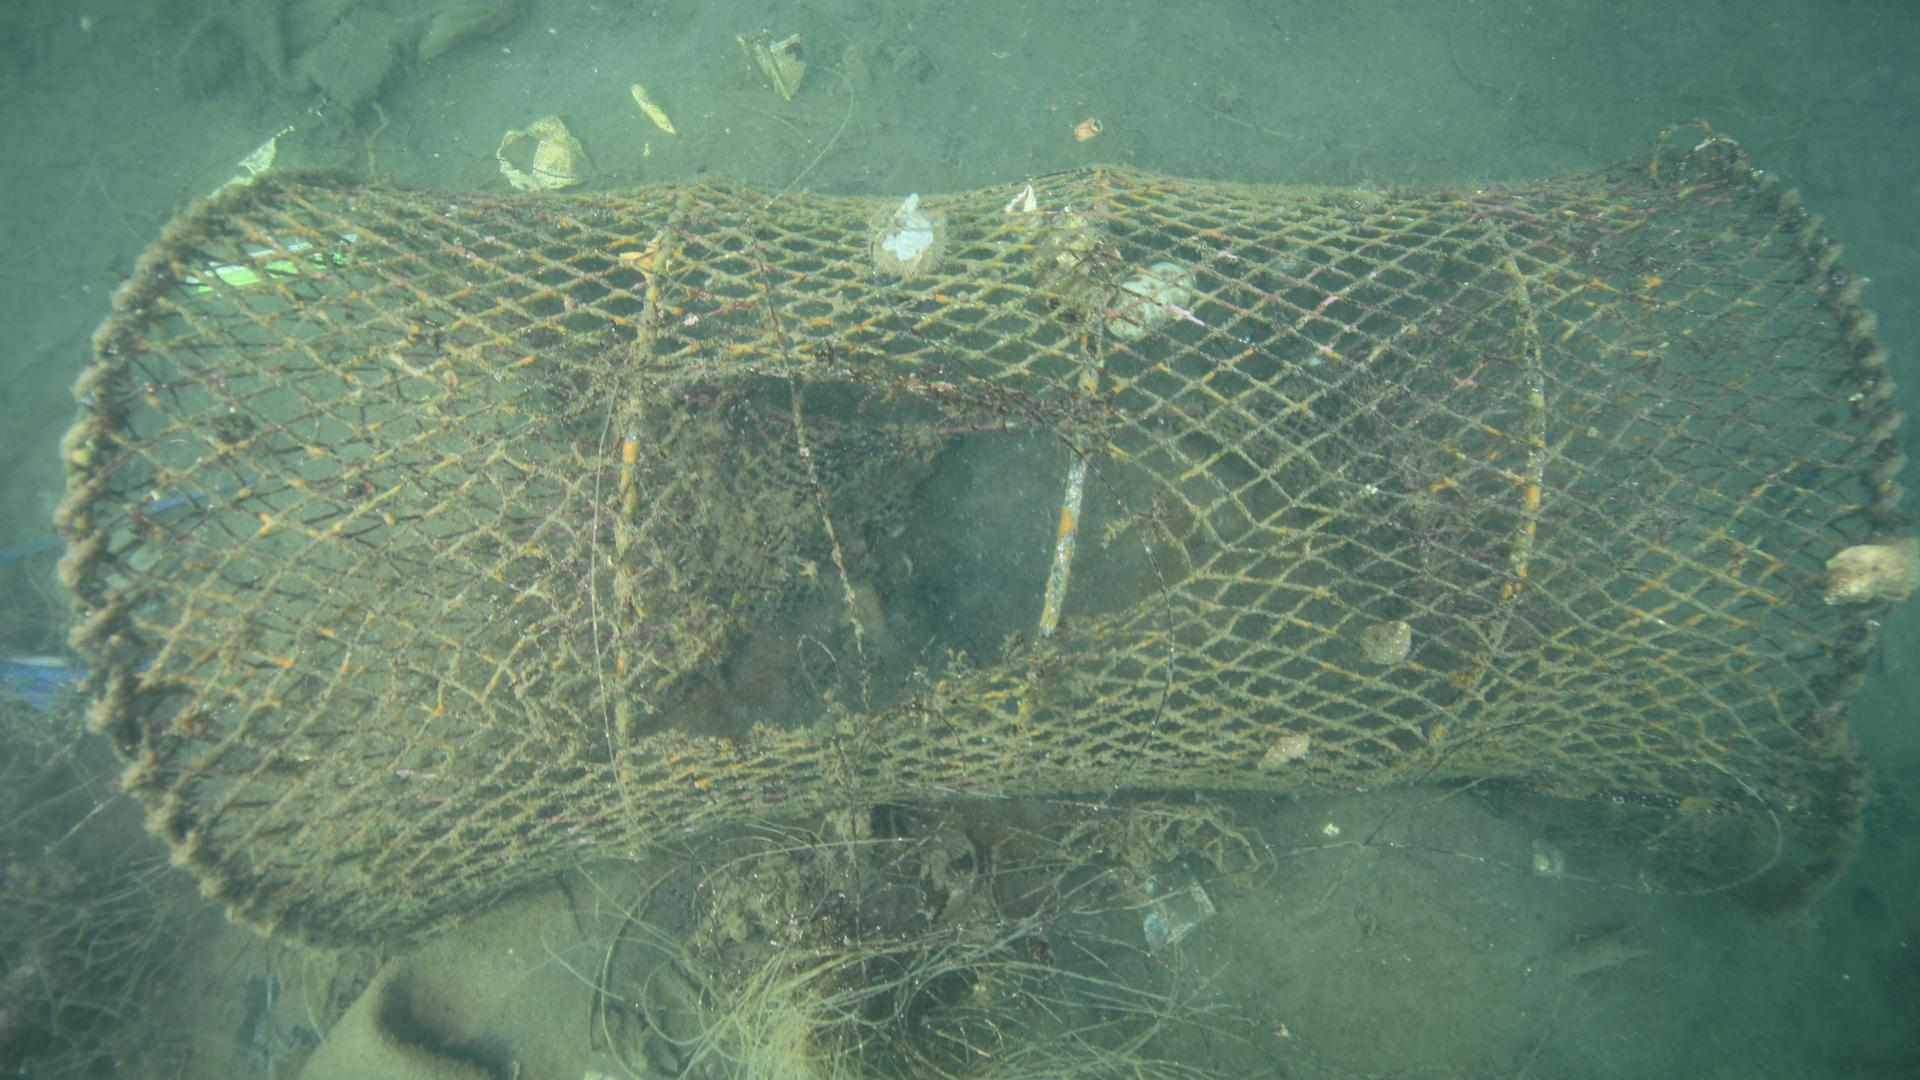spring fish trap: (40, 131, 1913, 952)
